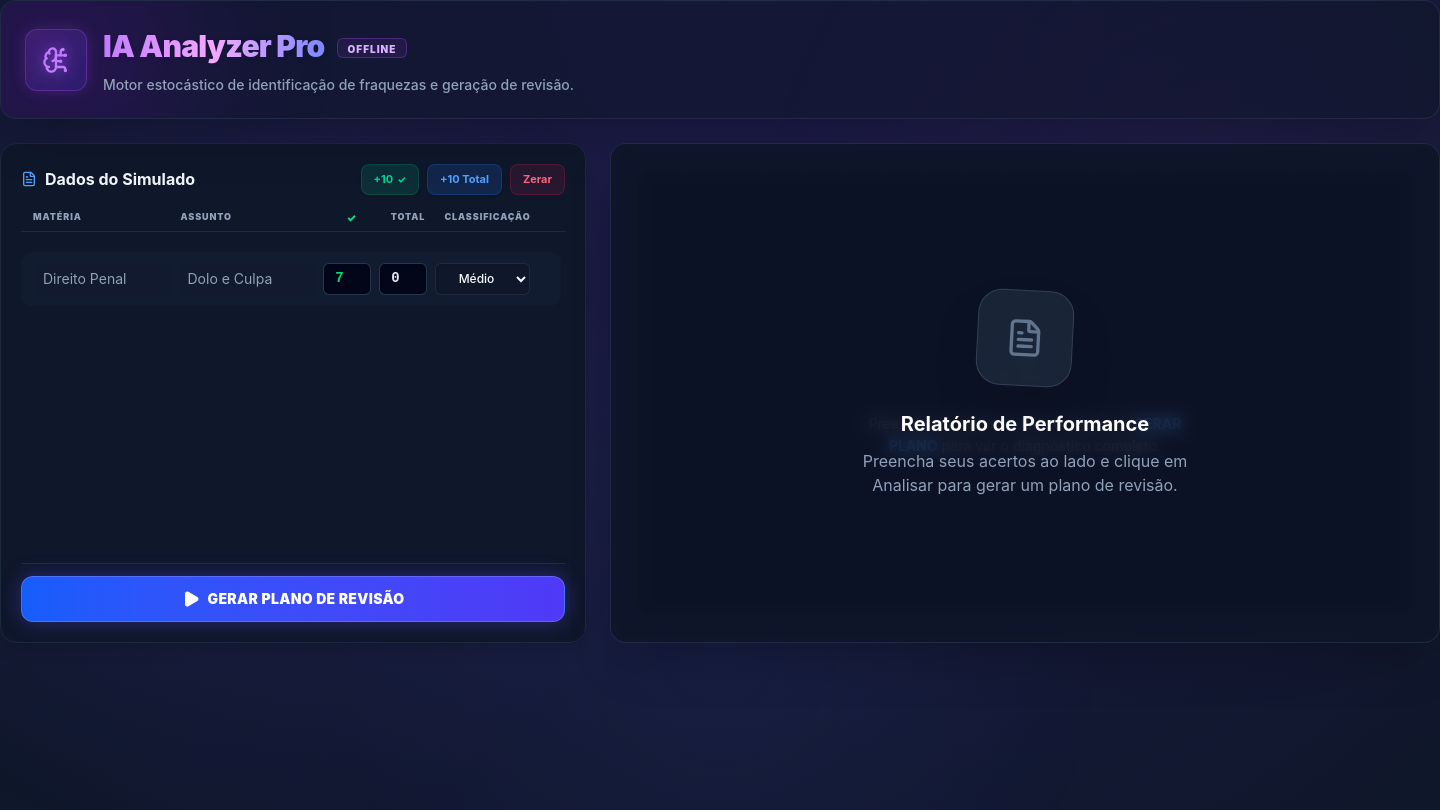
Test case: Audited Bug Fixes Regression Suite › SimuladoAnalysis in both mode still blocks missing total before analysis
The width and height of the screenshot is (1440, 810).
Click the button "GERAR PLANO DE REVISÃO". click: click(293, 599)
box: left=21, top=576, right=565, bottom=622
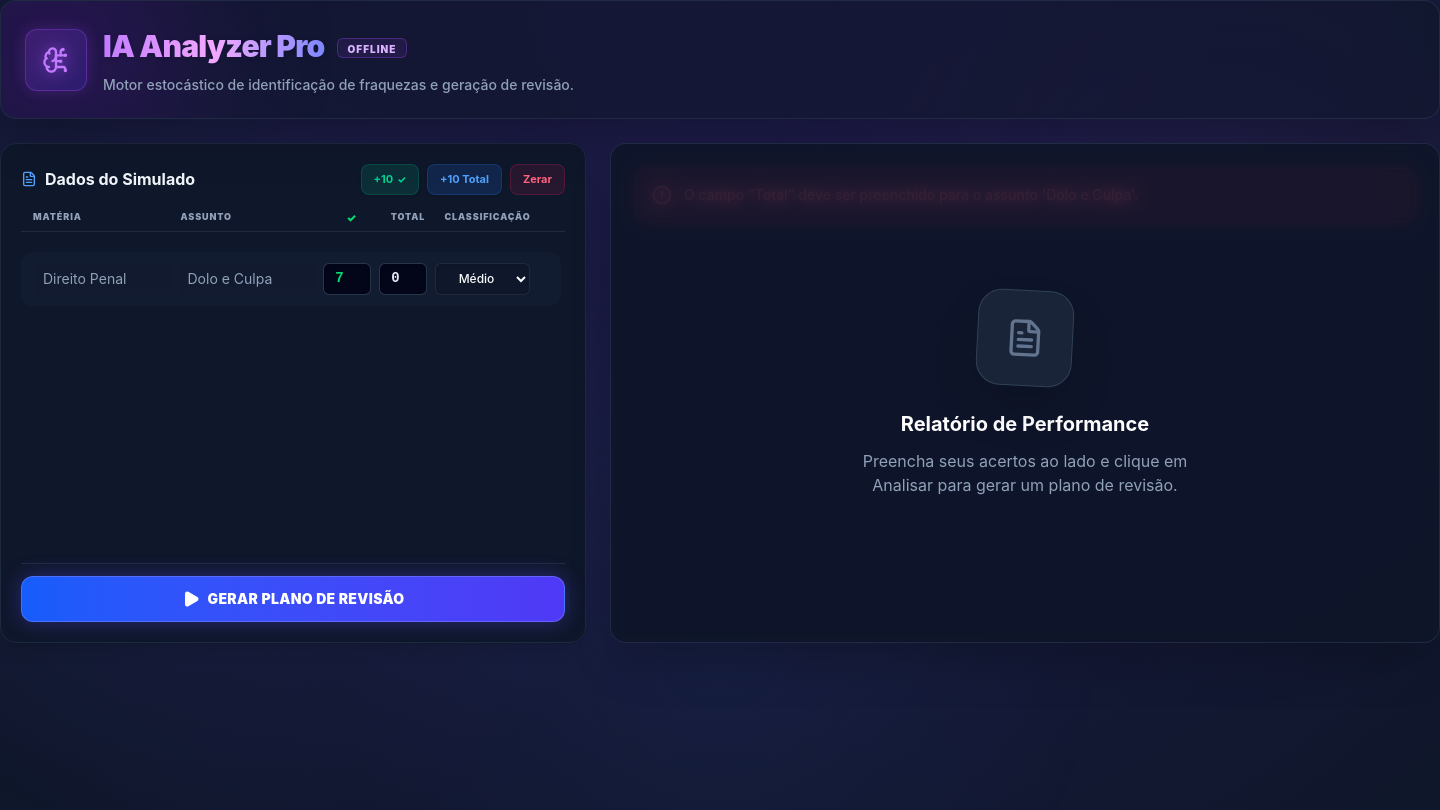
Expected: the text "O campo \"Total\" deve ser preenchido para o assunto 'Dolo e Culpa'" is shown, left=684, top=186, right=1139, bottom=203
